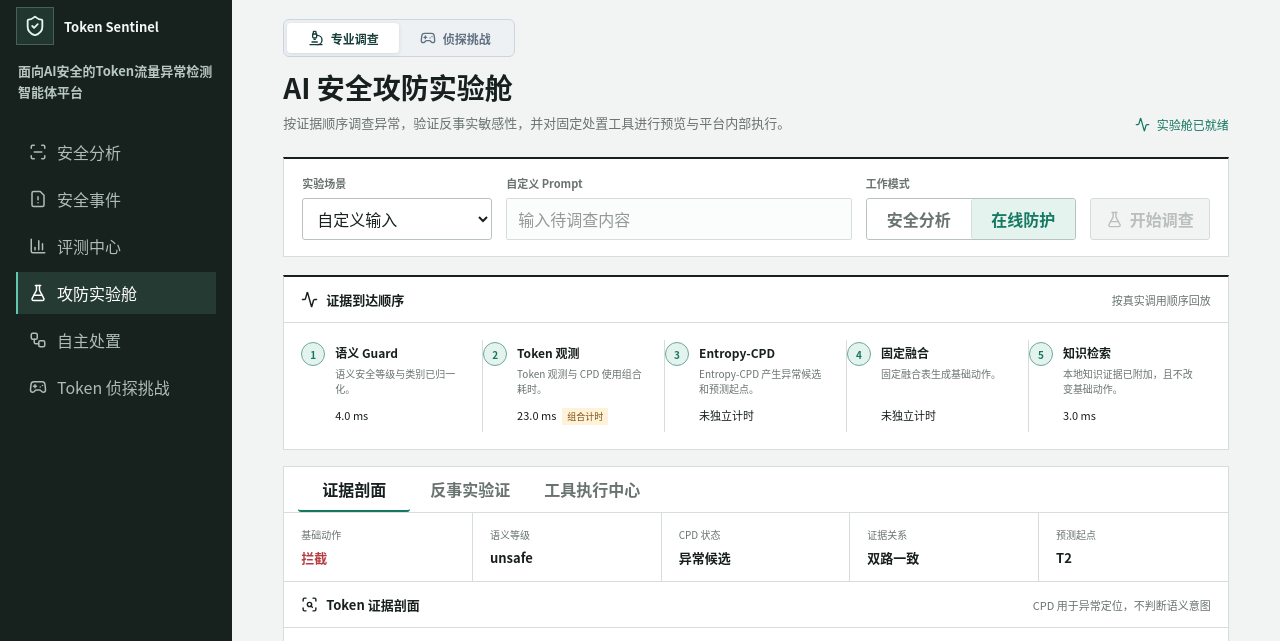
Test case: security lab workspace › restores the last redacted run and execution history after refresh
Expected: the text "证据到达顺序" is shown, [326, 290, 404, 309]
What coordinates should you click on to do the following:
click the tab "工具执行中心"
I would click on:
 (592, 490)
Its box is [530, 467, 654, 512].
(page scrolled)
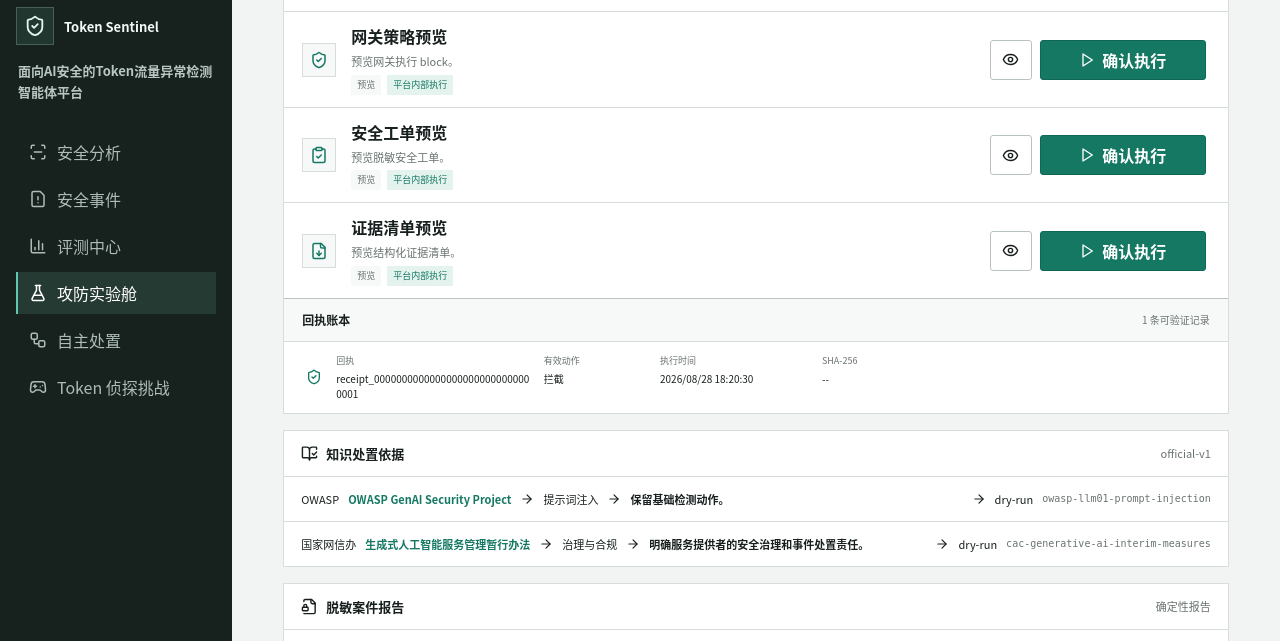
Expected: the text "receipt_00000000000000000000000000000001" is shown, [336, 371, 534, 401]
